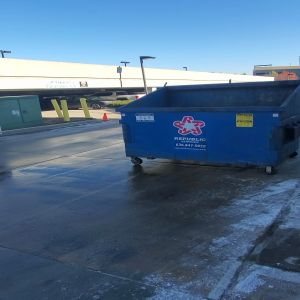Dumpster: (118, 80, 300, 178)
